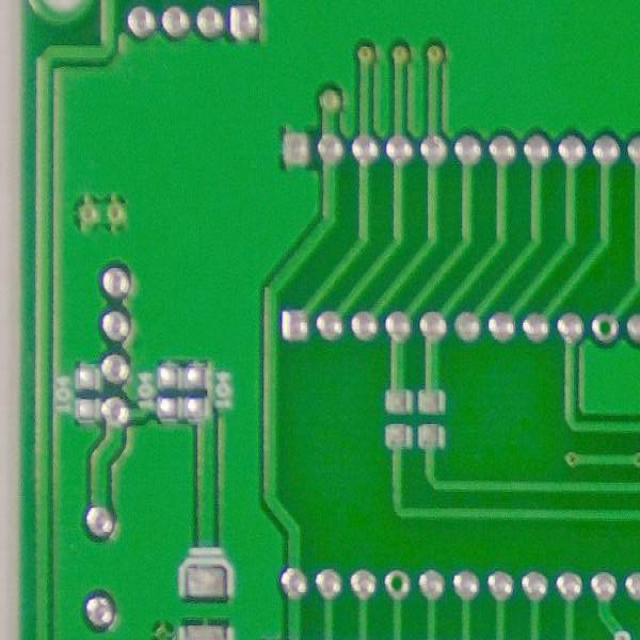missing hole: (380, 563, 418, 609), (589, 308, 624, 347)
